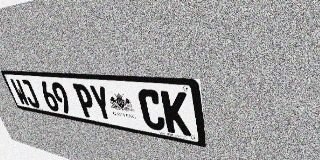6: (37, 81, 61, 112)
9: (49, 82, 74, 115)
C: (137, 89, 166, 132)
J: (19, 79, 41, 108)
K: (160, 90, 191, 136)
P: (72, 83, 98, 119)
W: (9, 79, 31, 107)
Y: (88, 85, 115, 122)
